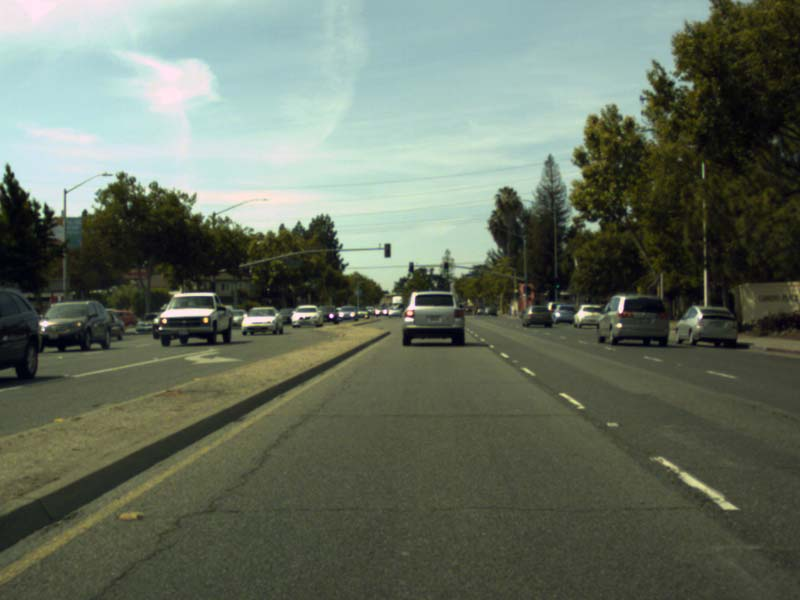Green: (555, 278, 559, 288), (444, 263, 447, 271)
